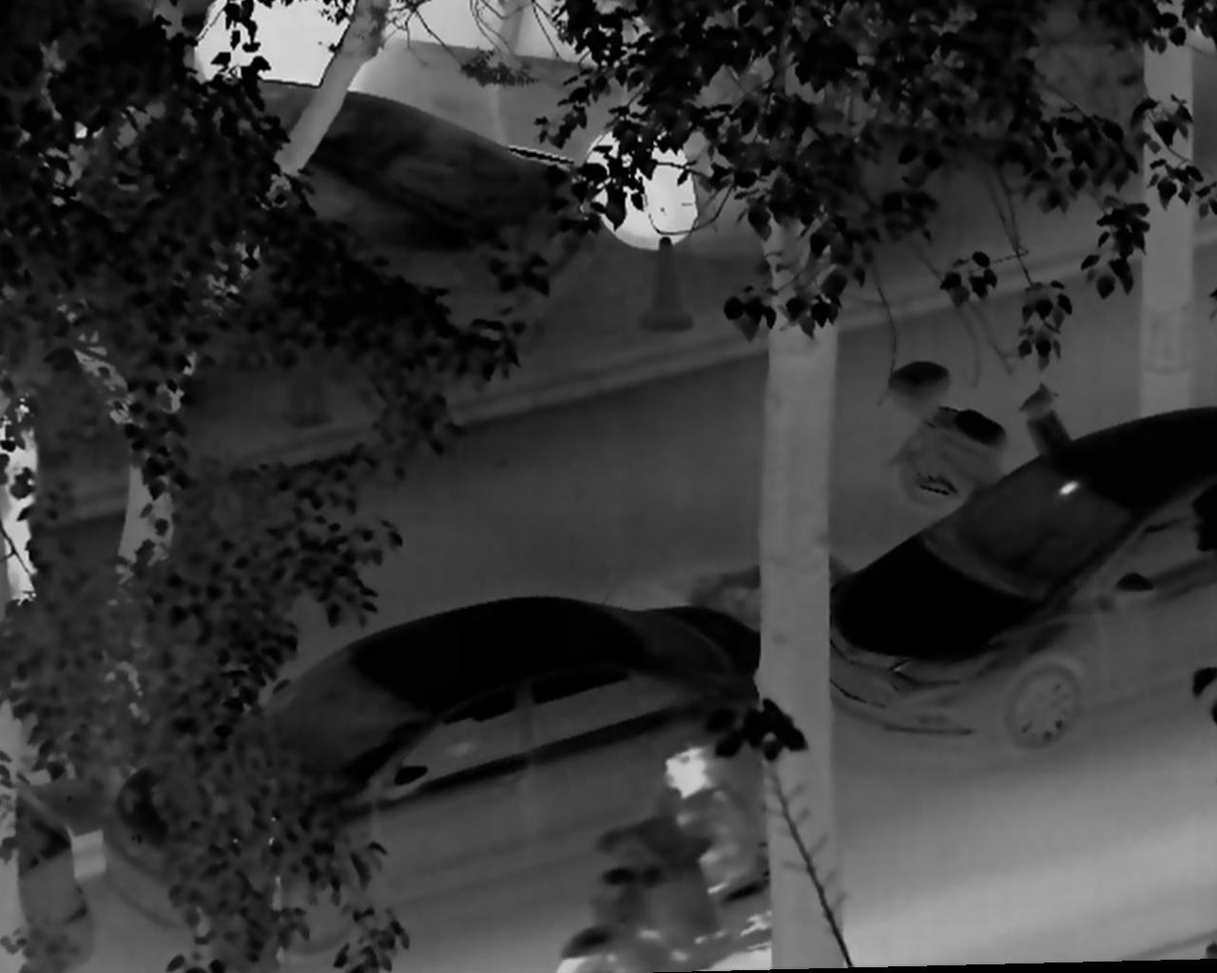person: (645, 743, 759, 925)
